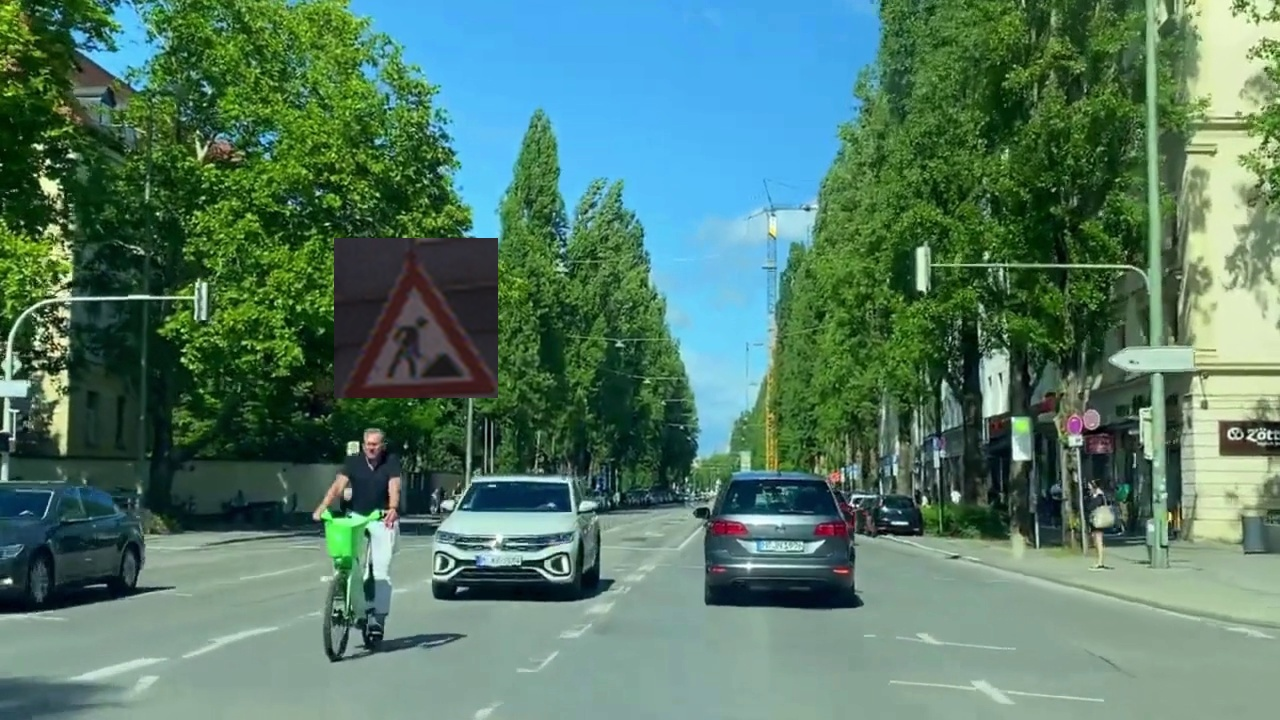Road work: (334, 238, 498, 398)
